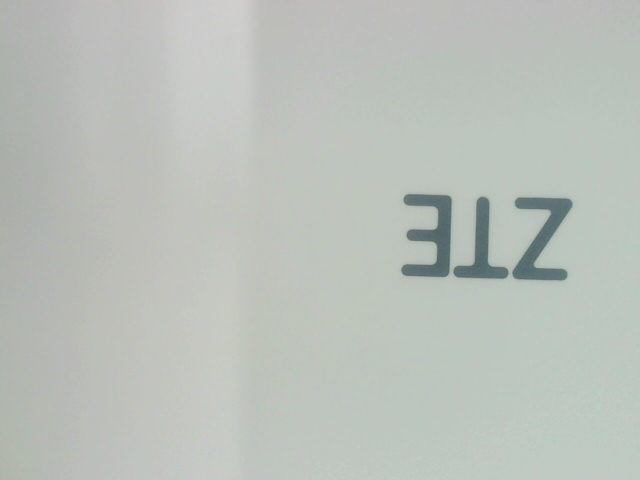AN_ZTELarge: (383, 181, 593, 293)
